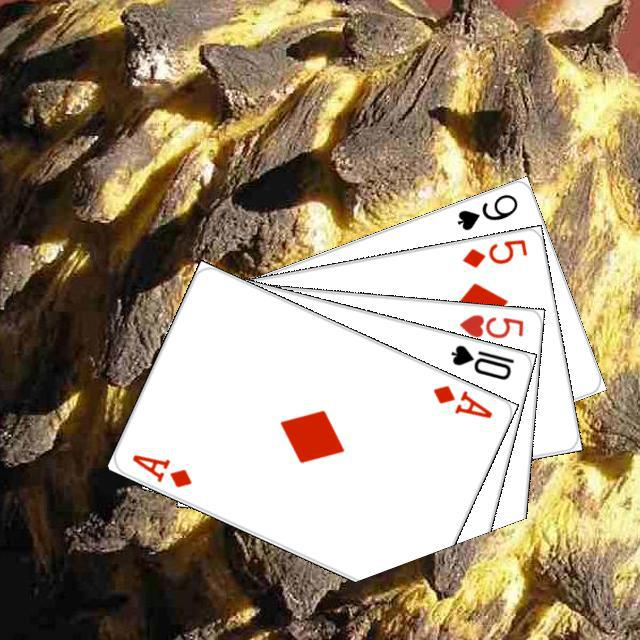10s: (446, 340, 516, 382)
5d: (457, 234, 529, 269)
5h: (454, 309, 526, 340)
9s: (452, 188, 520, 233)
Ad: (428, 380, 495, 421), (127, 449, 194, 490)
